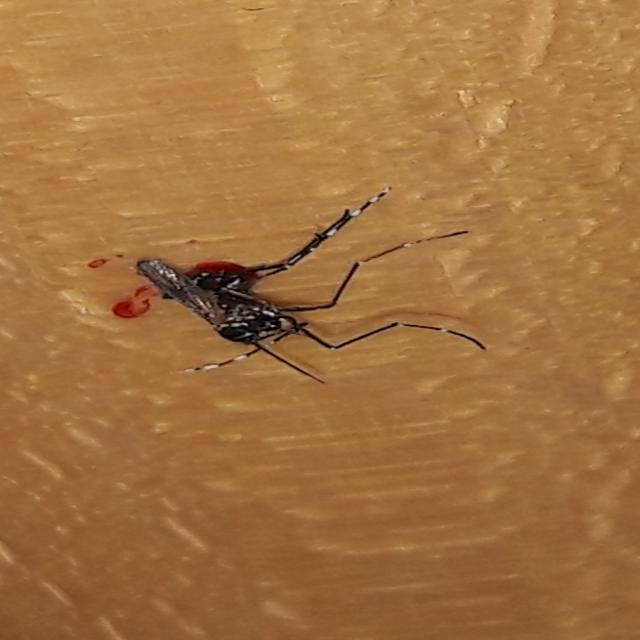albopictus: (95, 177, 484, 391)
